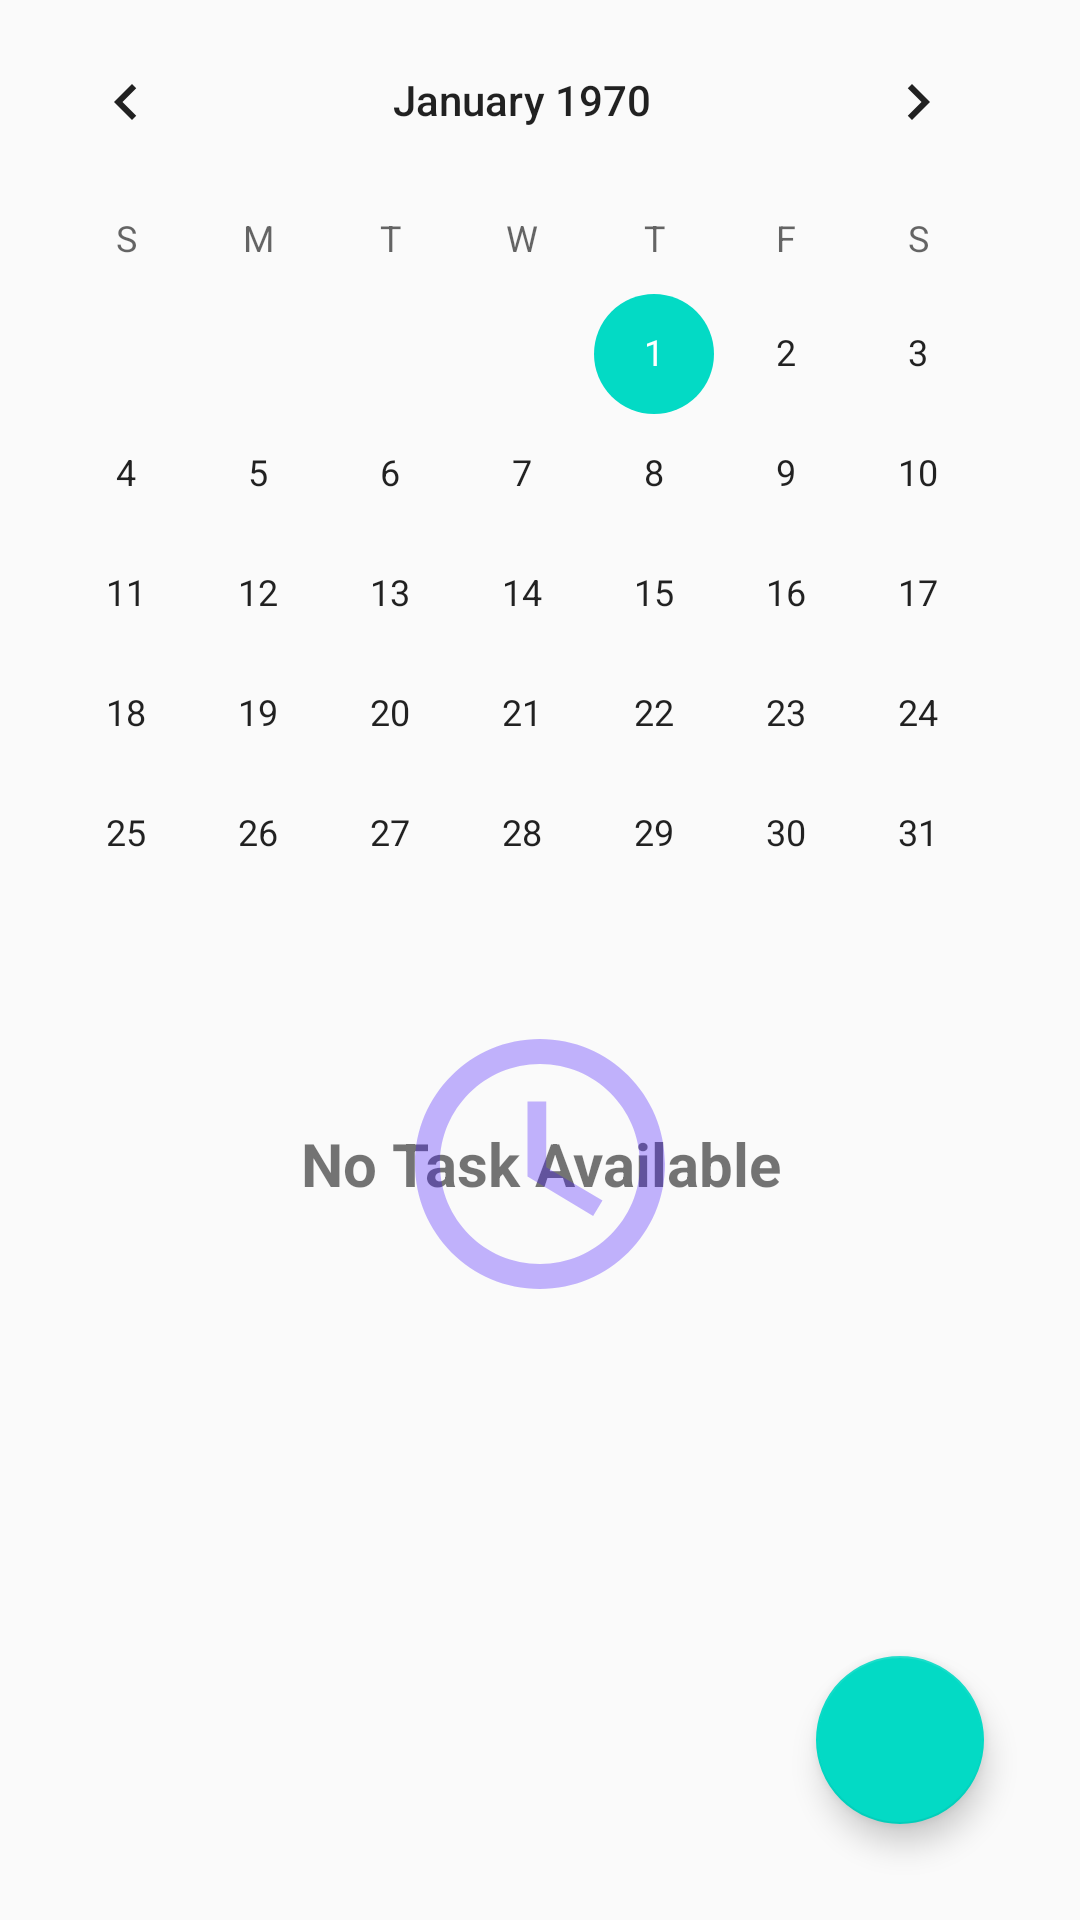

Point at icon controls on the screen. Image size 1080px×1920px, points as (x,y).
schedule: (529,1164)
